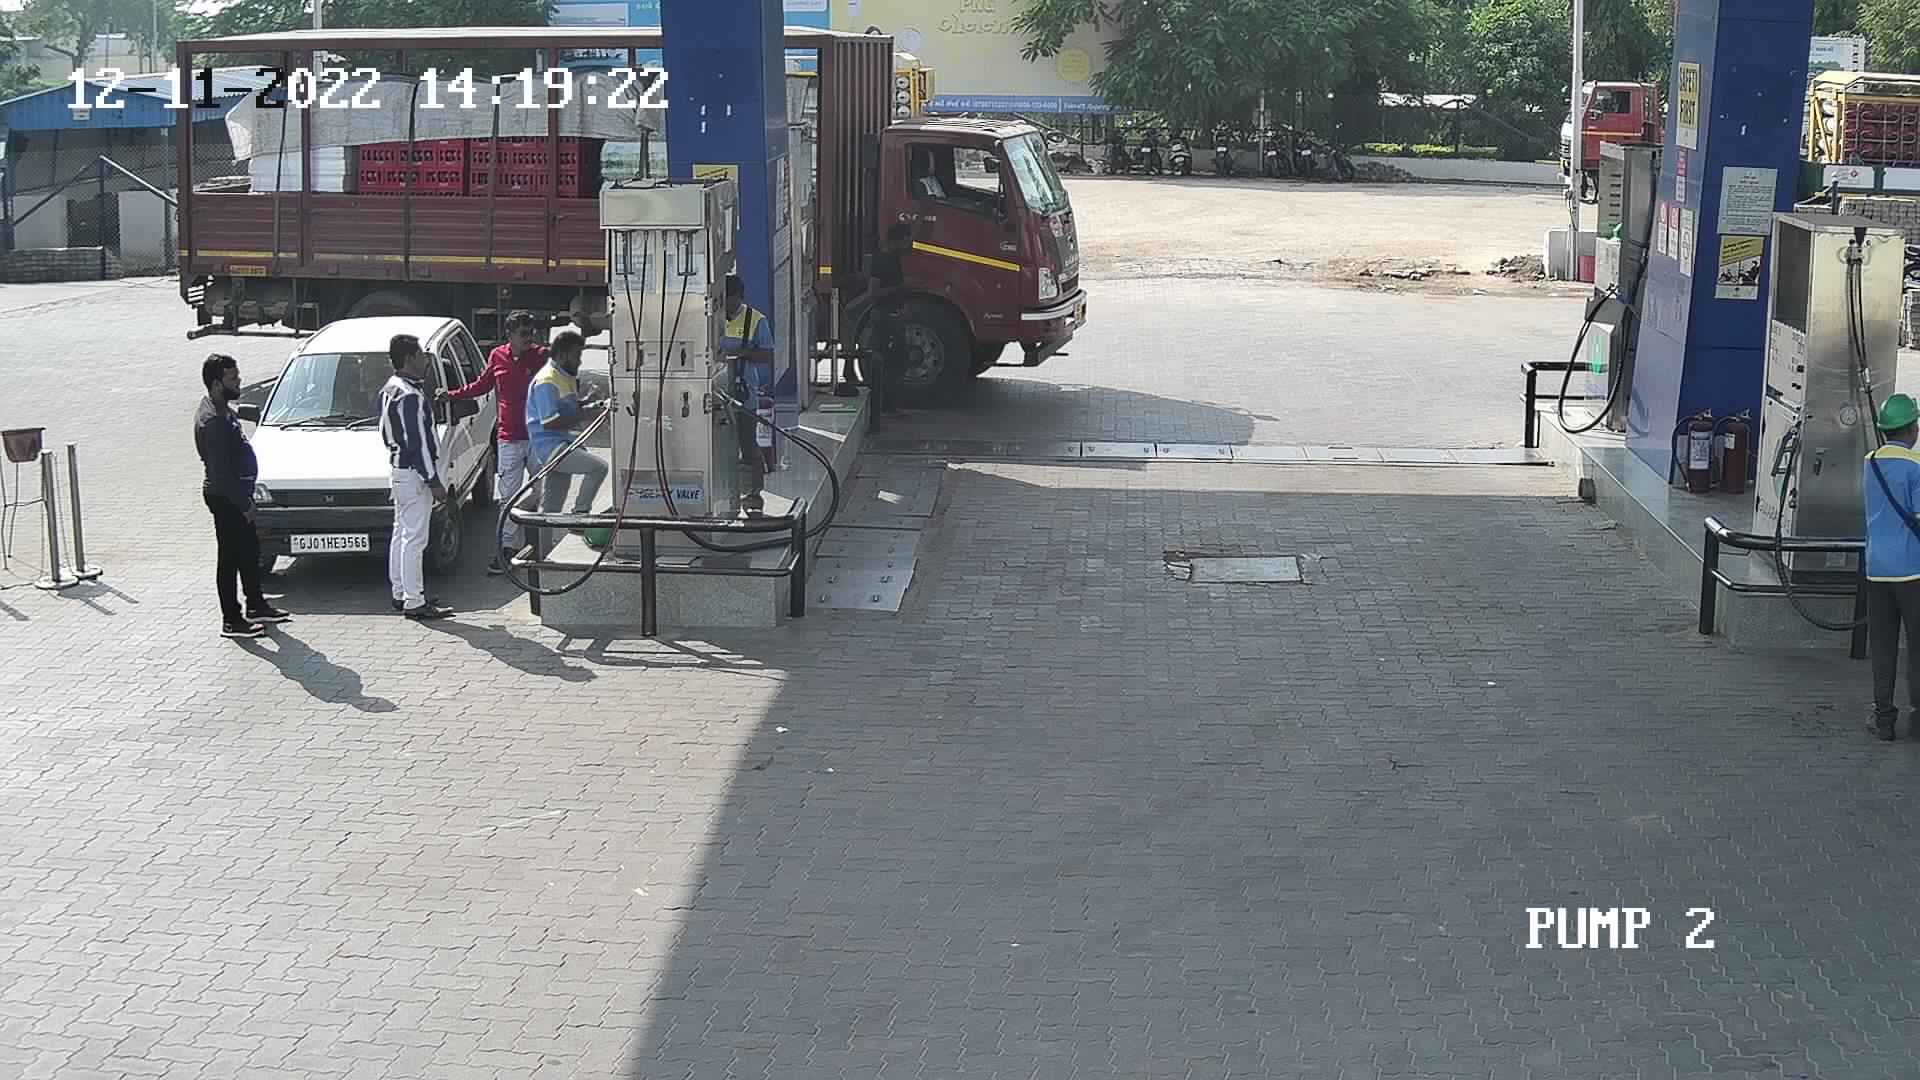Bike: (1305, 117, 1365, 179), (1204, 116, 1251, 177), (1098, 109, 1141, 175), (1282, 117, 1323, 179), (1133, 111, 1168, 173), (1160, 120, 1197, 179), (1255, 113, 1288, 179)
Car: (206, 303, 531, 582)
HMV: (777, 15, 1102, 417), (1793, 57, 1917, 204), (1544, 71, 1677, 208), (876, 41, 951, 135)
Others: (1842, 386, 1917, 752), (506, 326, 611, 542), (705, 266, 777, 509)
